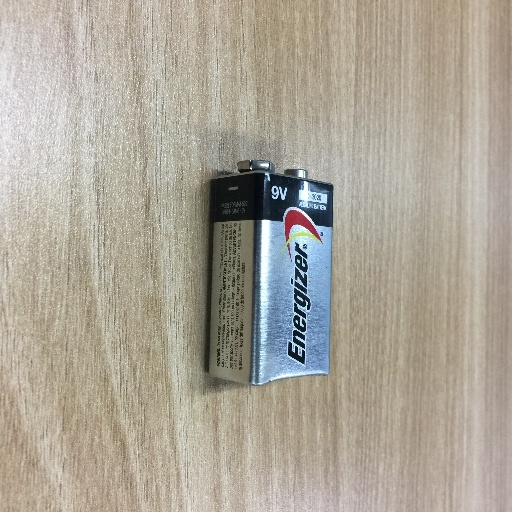Battery_3: (186, 148, 348, 395)
